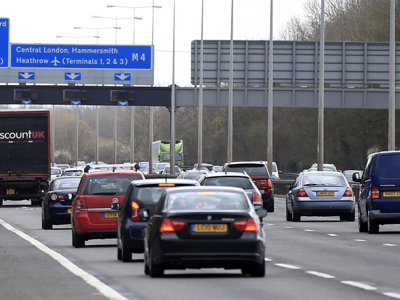licence: (193, 224, 231, 233), (315, 189, 337, 197)
